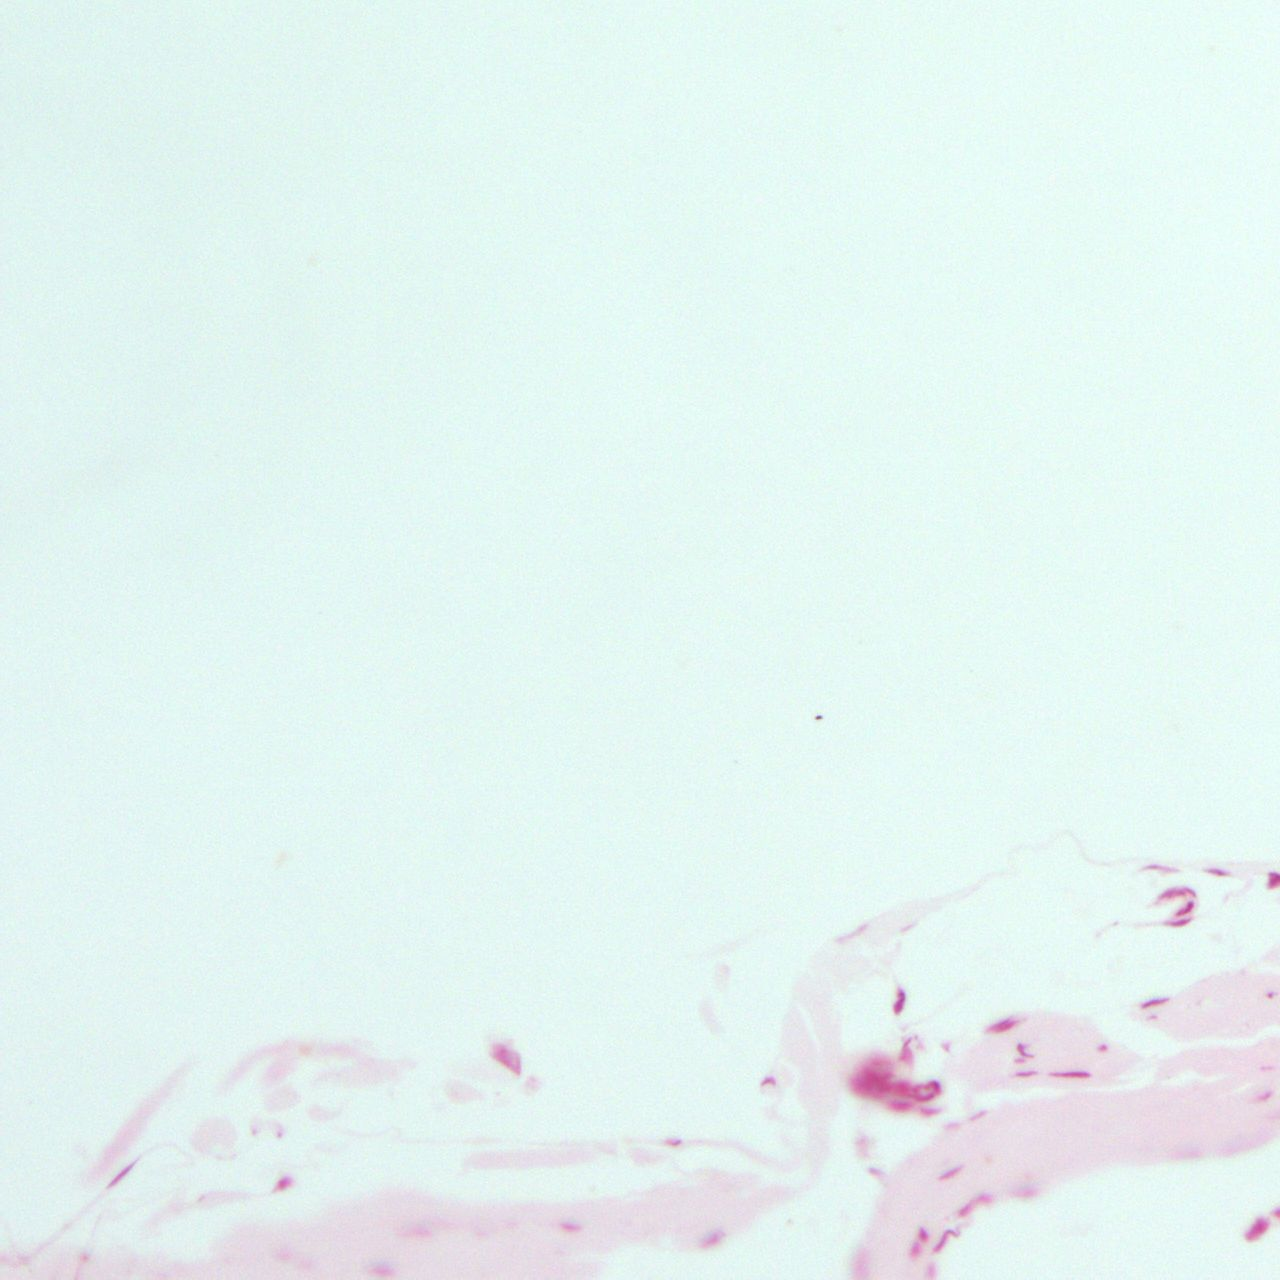dust: (814, 714, 823, 720)
nucleus-AC: (104, 1155, 143, 1192), (1237, 1211, 1276, 1247), (955, 1189, 995, 1219), (1152, 882, 1198, 908), (694, 1224, 730, 1257), (926, 1224, 961, 1257), (983, 1010, 1023, 1038), (837, 916, 873, 946), (488, 1042, 521, 1074), (934, 1158, 969, 1185), (858, 1068, 892, 1095), (266, 1171, 297, 1200), (1137, 992, 1169, 1012), (1171, 899, 1199, 921), (965, 1108, 988, 1127), (368, 1262, 395, 1278), (1250, 1088, 1277, 1104), (890, 986, 905, 1014), (1014, 1043, 1037, 1059), (892, 1079, 915, 1094), (900, 1040, 913, 1064), (1049, 1070, 1088, 1078), (1143, 865, 1177, 874), (888, 1101, 913, 1113), (1010, 1187, 1037, 1198), (556, 1221, 583, 1232), (919, 1079, 940, 1092), (1203, 868, 1230, 878), (904, 1094, 939, 1101), (1164, 918, 1194, 926), (918, 1107, 942, 1116), (865, 1166, 886, 1176), (664, 1139, 682, 1149), (927, 1263, 938, 1279), (760, 1076, 776, 1086), (909, 1244, 921, 1257), (1013, 1071, 1037, 1077), (939, 1041, 952, 1052), (1096, 1042, 1108, 1052), (917, 1230, 926, 1242), (274, 1131, 283, 1138), (1012, 1058, 1027, 1062), (1266, 993, 1273, 999)
